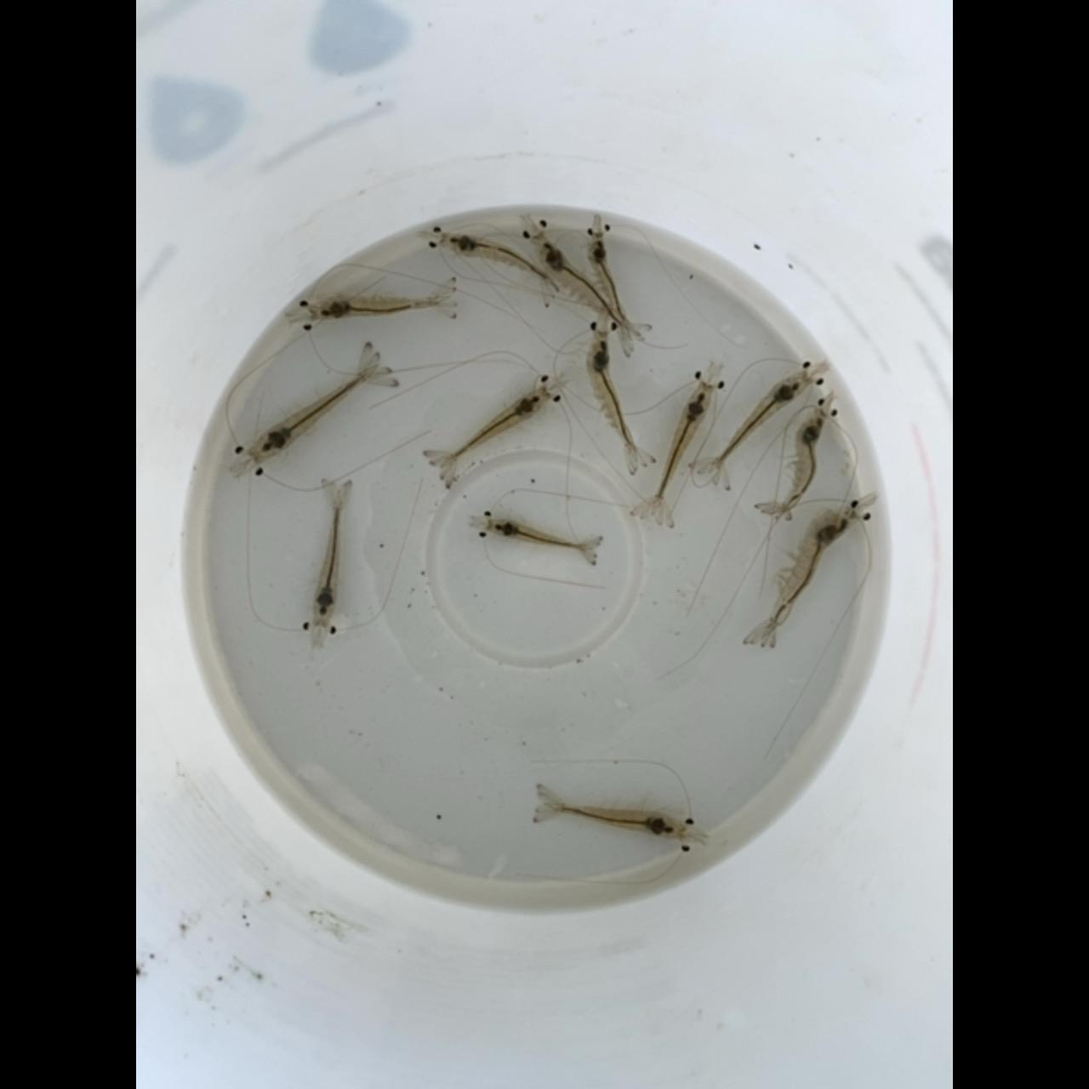top_shrimp: (249, 363, 381, 462), (760, 508, 857, 642), (532, 235, 637, 338), (709, 371, 808, 474), (438, 387, 551, 469), (651, 382, 715, 518), (441, 232, 560, 292), (587, 331, 638, 463), (774, 407, 827, 520), (543, 803, 684, 842), (586, 232, 634, 342), (312, 487, 343, 626), (311, 292, 453, 321), (488, 519, 597, 549)
